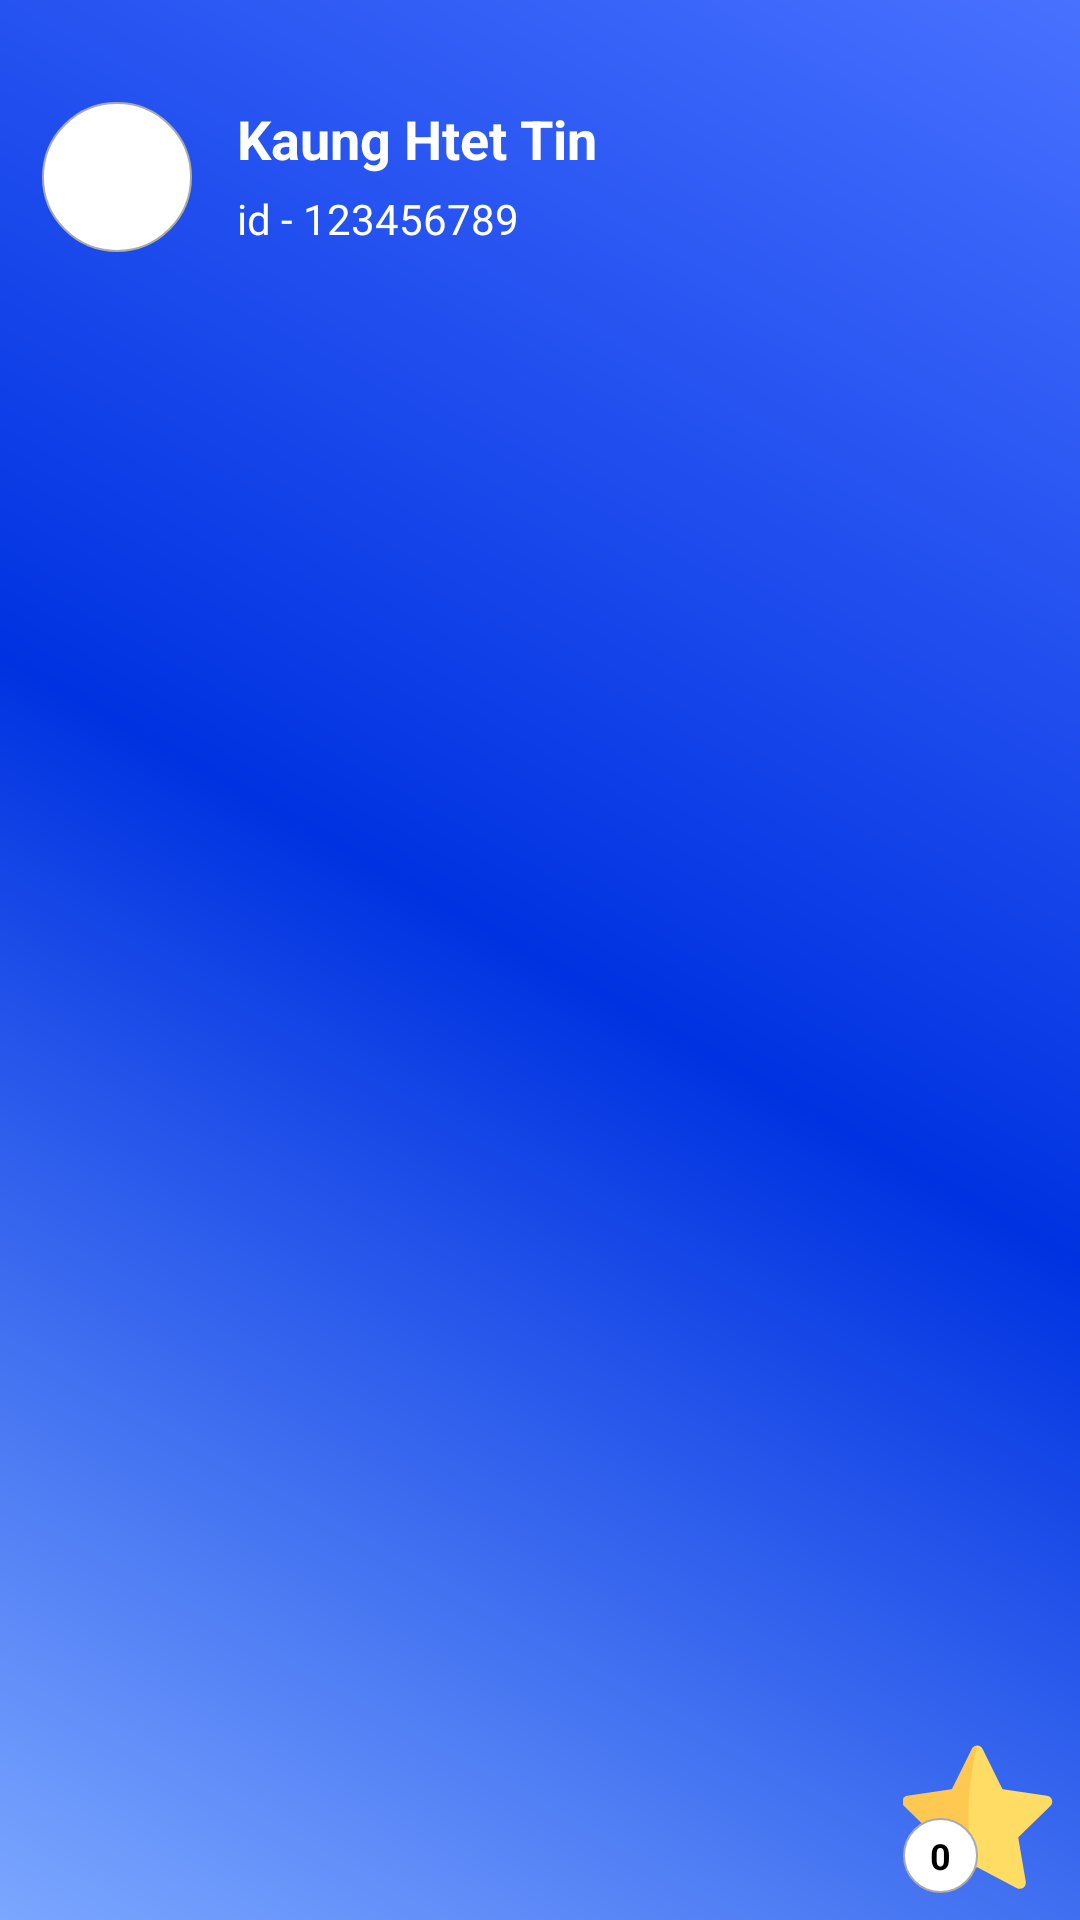

Icons on this 1080*1920 Android screen, each with its box as (x1, y1, x2, y2):
point: (903, 1745, 1053, 1893)
